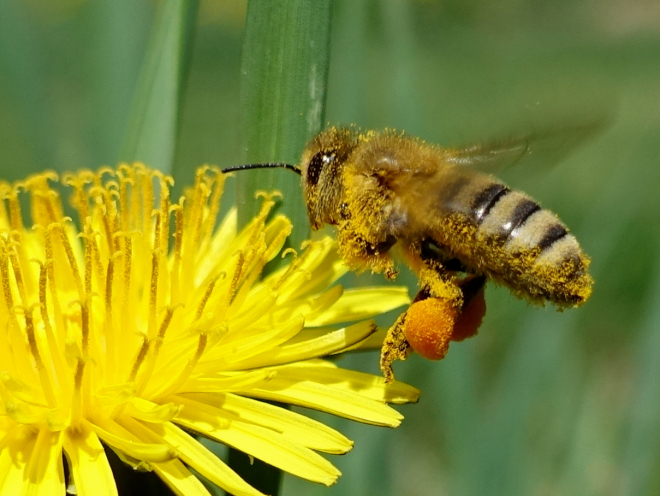dandelion: (4, 180, 372, 496)
